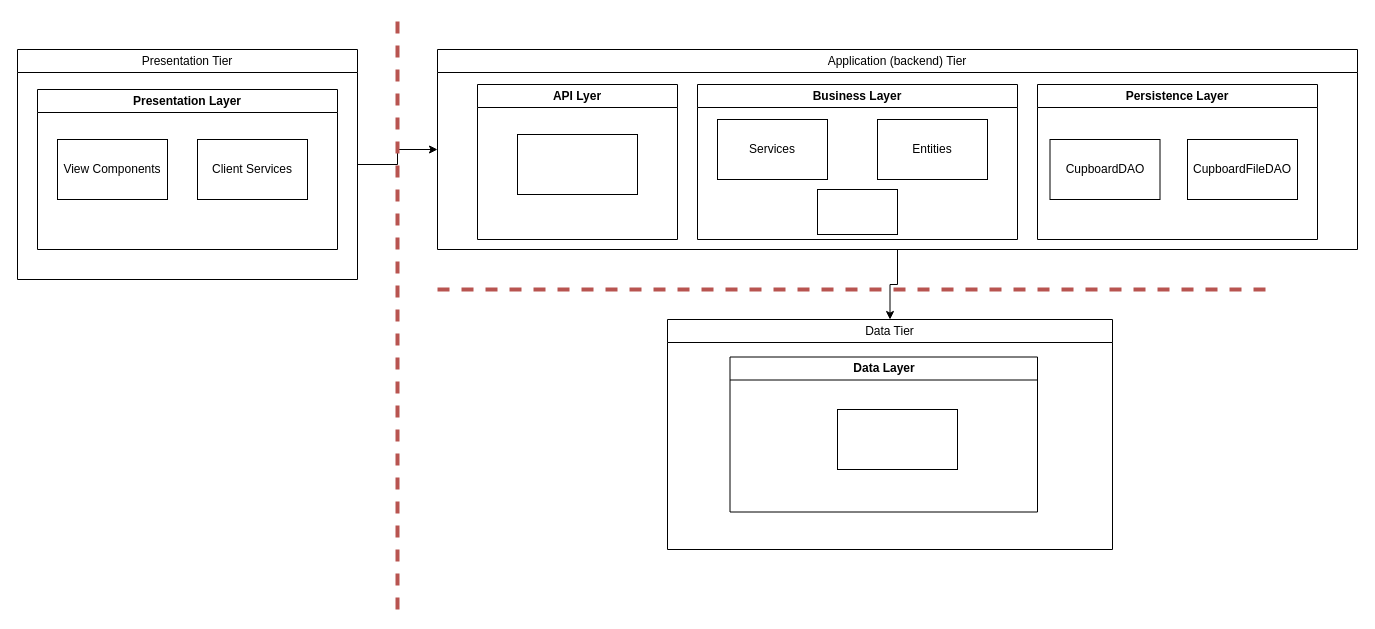
Image size: 1375x629. Some labels were removed from this diagram. The shapes that lost their labels are listed below. From the top down, each one's centre as x and y in pixels, then its label:
the point at 577,164: Cupboard Controller
the point at 857,211: Need
the point at 897,439: Data Stoage
